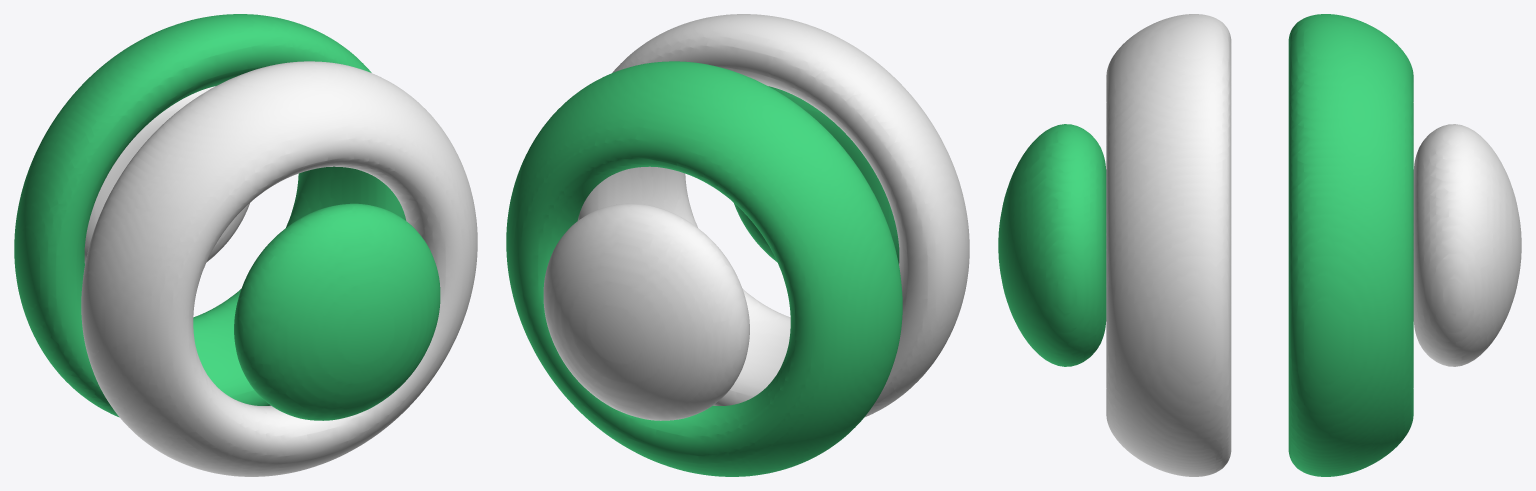
3 views of the same model, side by side, from view 1: azimuth 30°, elevation 25°; view 2: azimuth 150°, elevation 25°; view 3: azimuth 270°, elevation 25° (orthographic). The views are drawn at different scales.
Visible parts, largest first — view 1: f_fz3; view 2: f_fz3; view 3: f_fz3.
Boxes of the visible parts, box(x1,y1,x2,y2) form: f_fz3: box(14, 14, 477, 476); f_fz3: box(506, 14, 969, 476); f_fz3: box(998, 14, 1521, 476).
Size of the model in its own units: 1.77 by 1.77 by 2.
